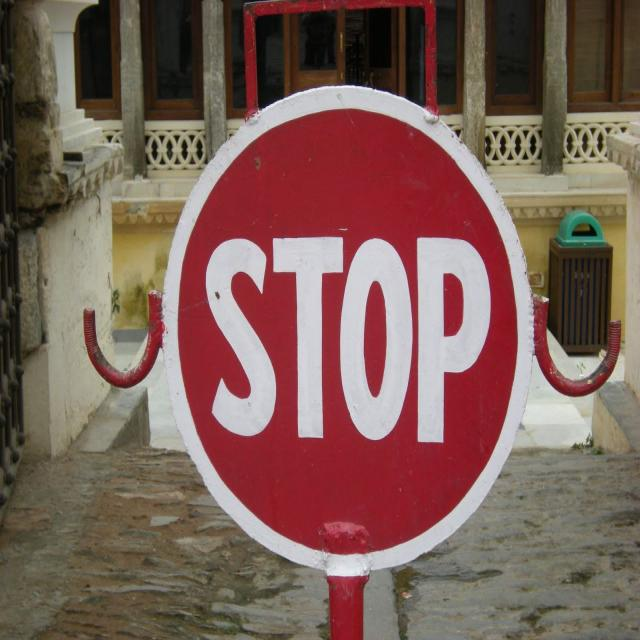stop: (166, 92, 538, 553)
